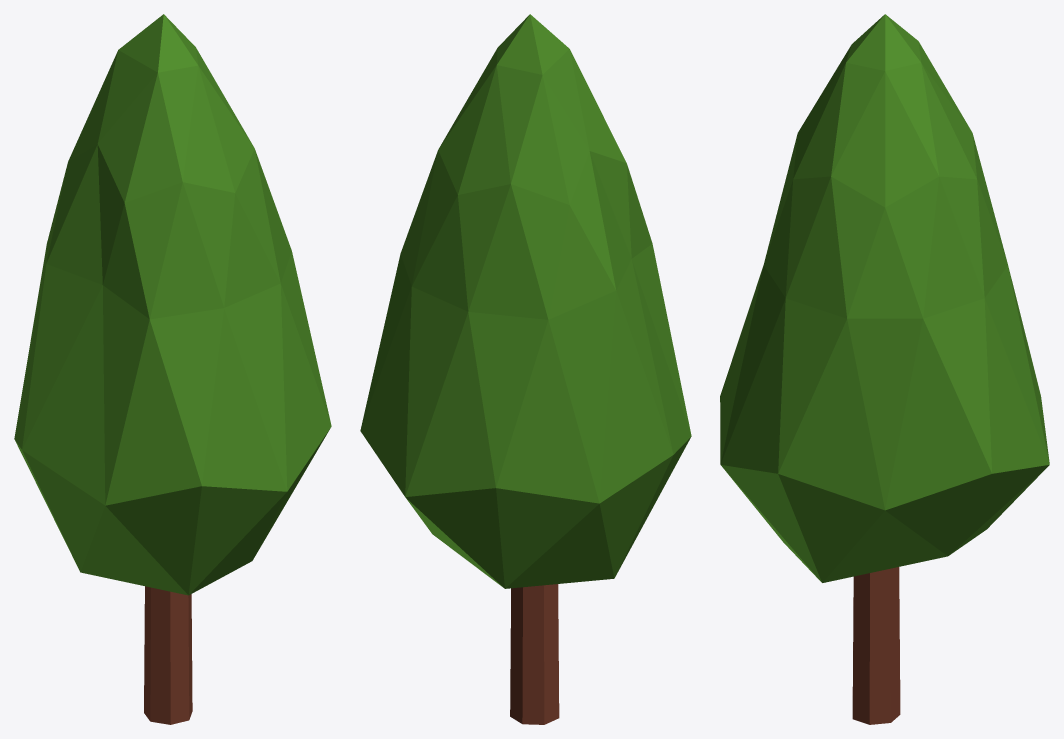
Rendered from TreeSmallLong.fbx.
3 renders of one model, left to right at view 1: azimuth 30°, elevation 25°; view 2: azimuth 150°, elevation 25°; view 3: azimuth 270°, elevation 25°, orthographic.
Visible parts, largest first — view 1: long tree; view 2: long tree; view 3: long tree.
Boxes of the visible parts, bbox=[...] form: long tree: bbox=[14, 14, 331, 724]; long tree: bbox=[360, 14, 691, 724]; long tree: bbox=[720, 14, 1049, 724].
Bounding box in the file's own units: 1048 × 2524 × 1077.
